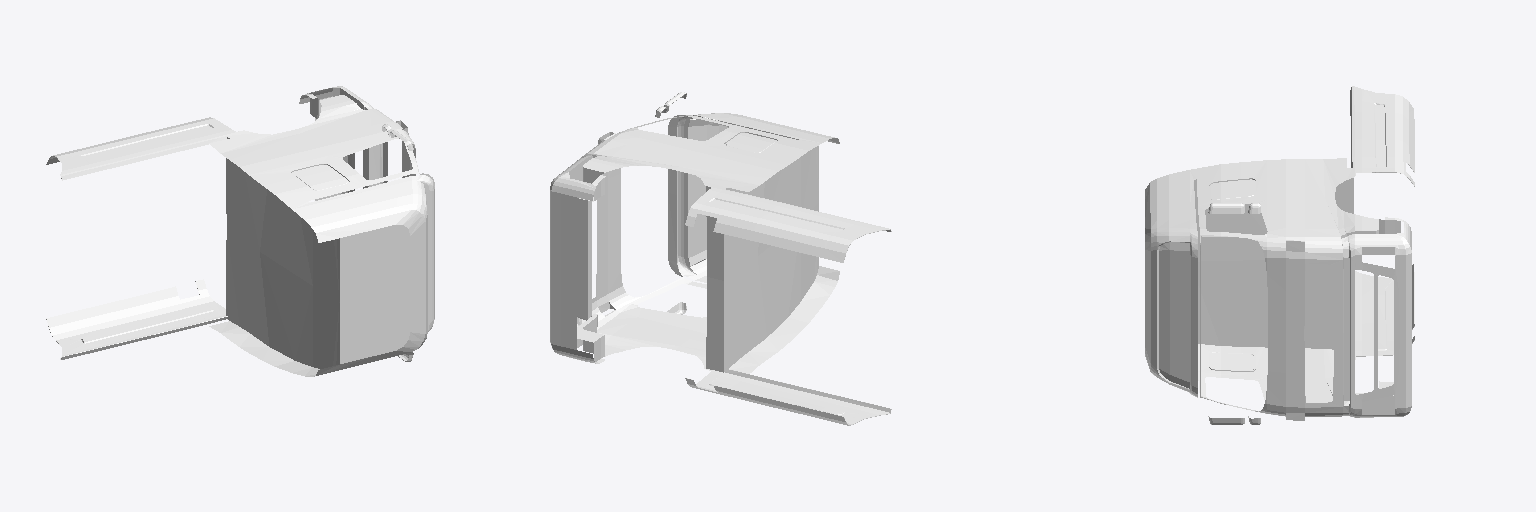
Rendered from cab_body.obj.
3 views of the same model, side by side, from view 1: azimuth 30°, elevation 25°; view 2: azimuth 150°, elevation 25°; view 3: azimuth 270°, elevation 25° (orthographic).
Visible parts, largest first — view 1: cab_body; view 2: cab_body; view 3: cab_body.
Part boxes in pixels (left/top/right/bottom): cab_body: left=46, top=86, right=434, bottom=376; cab_body: left=550, top=92, right=891, bottom=425; cab_body: left=1145, top=86, right=1414, bottom=424.
Bounding box in the file's own units: 4.36 × 2.9 × 3.21.